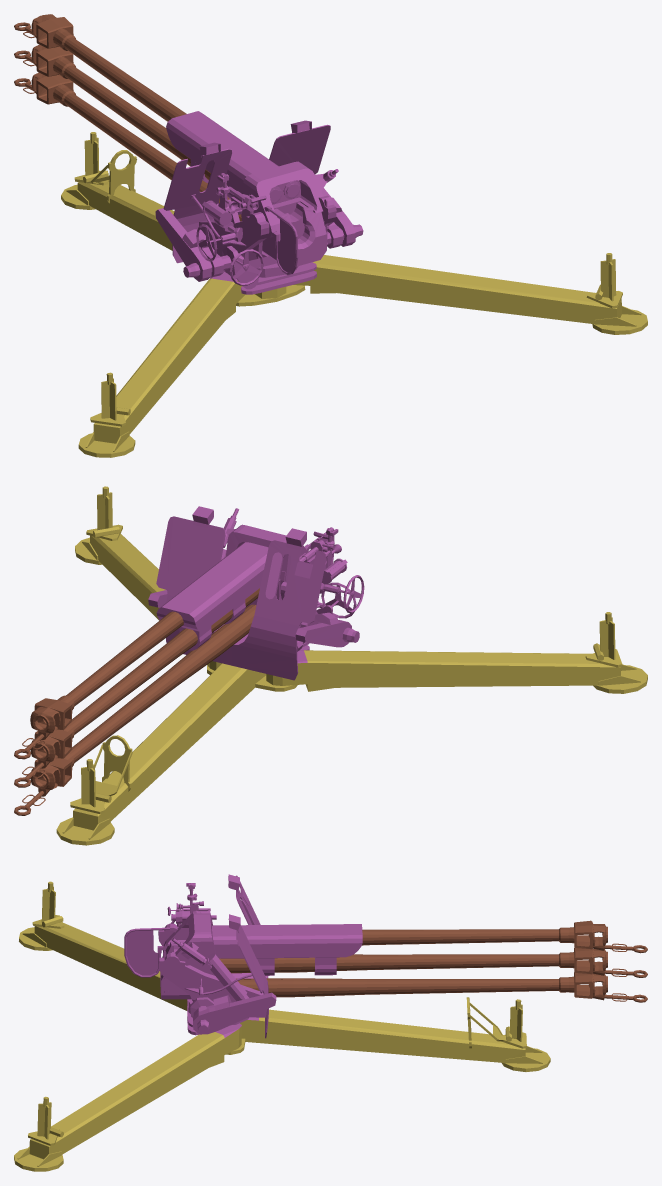
File: gausbitsa-d-30_Update3.fbx
The picture shows the model from 3 angles, top to bottom: view 1: azimuth 30°, elevation 25°; view 2: azimuth 150°, elevation 25°; view 3: azimuth 270°, elevation 25°; orthographic projection. The views are drawn at different scales.
Visible parts, largest first — view 1: Attack, Base; view 2: Attack, Base; view 3: Attack, Base.
Part boxes in pixels (x1,y1,x2,y2): Attack: [14, 14, 363, 294]; Base: [61, 132, 647, 457]; Attack: [14, 506, 364, 815]; Base: [56, 486, 647, 845]; Attack: [124, 874, 647, 1038]; Base: [14, 881, 550, 1171].
Bounding box in the file's own units: 24.84 × 8.12 × 27.47.
